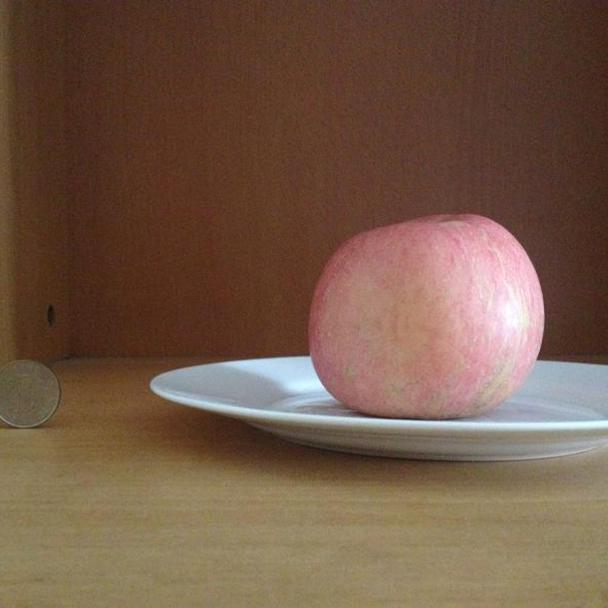apple: (309, 210, 546, 419)
